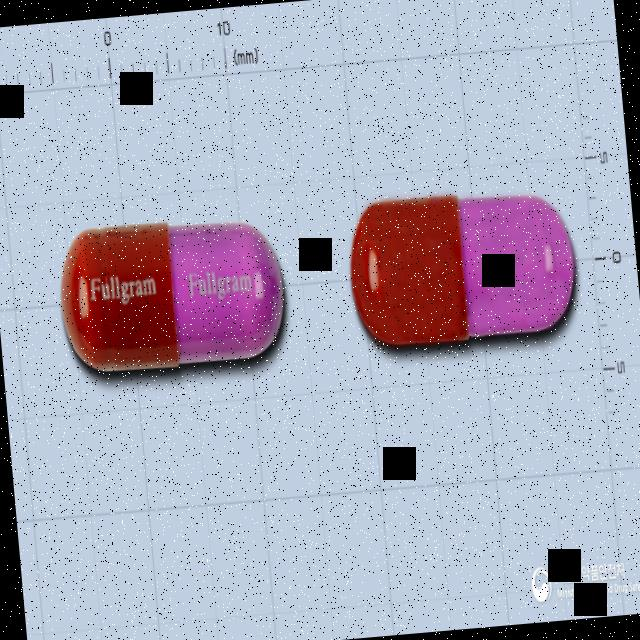Fullgram Cap: (53, 210, 290, 378)
